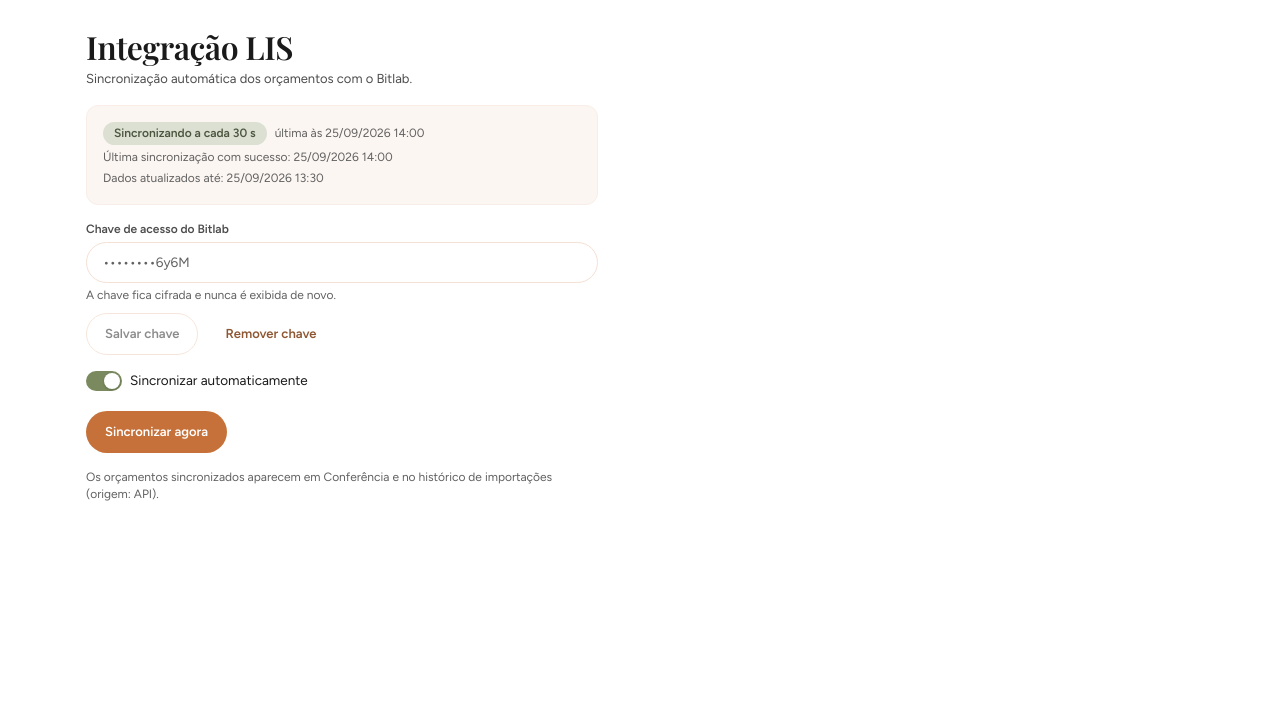
Test case: LisIntegration (/settings/lis-integration) › resultado com falha vira toast com a mensagem do servidor
Click the button "Sincronizar agora". click: (156, 432)
box: [86,411,227,453]
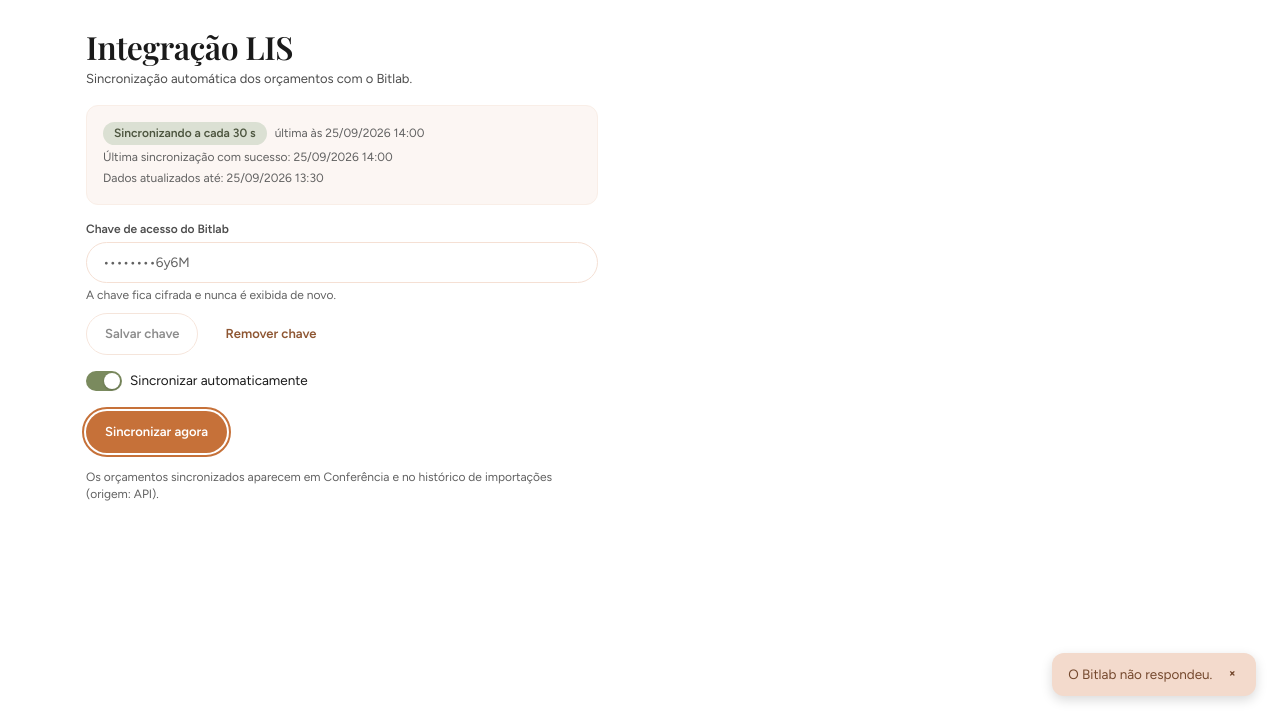
Expected: the text "O Bitlab não respondeu." is shown, [1068,665,1212,684]
